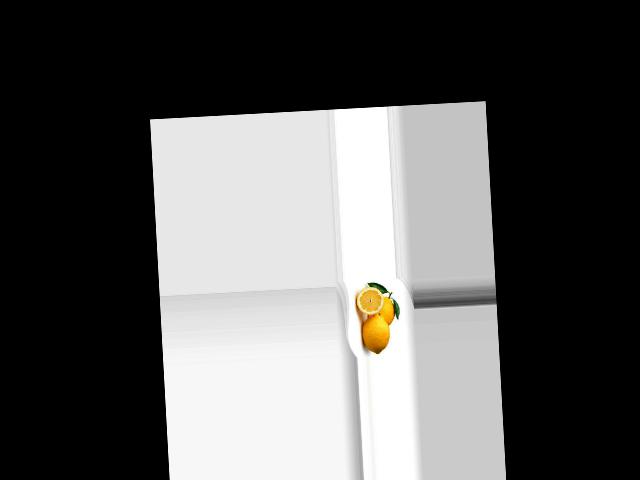lemon: (368, 292, 396, 328)
